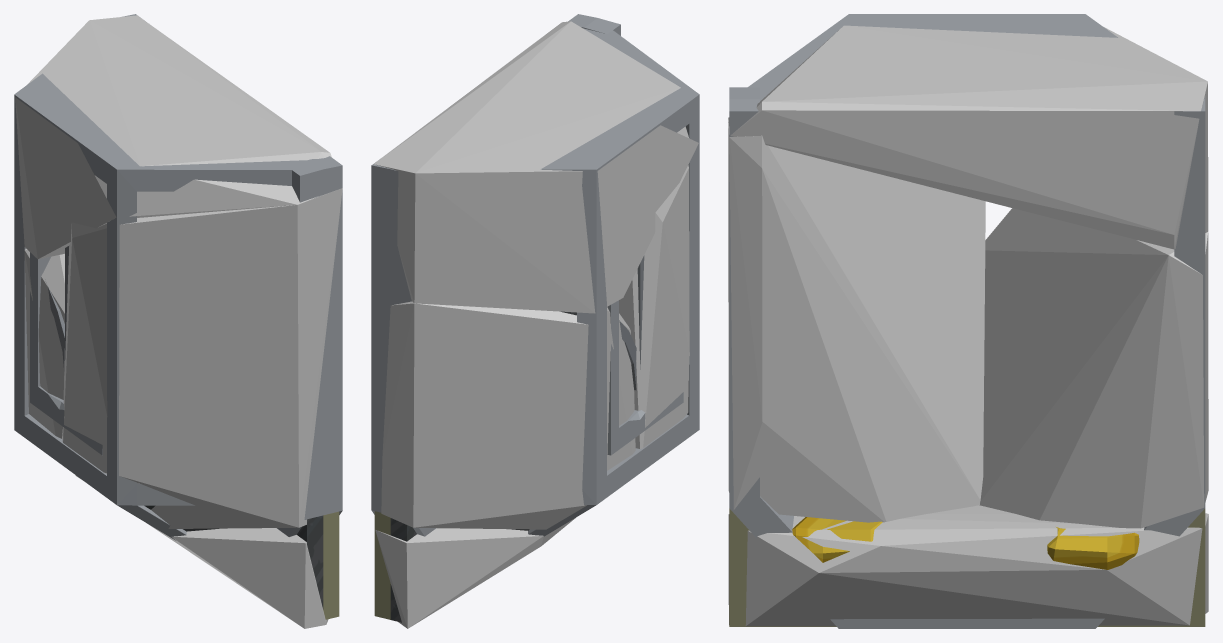
The model's file is SM_Bld_Window_Box_02.fbx.
The picture shows the model from 3 angles, left to right: view 1: azimuth 30°, elevation 25°; view 2: azimuth 150°, elevation 25°; view 3: azimuth 270°, elevation 25°; orthographic projection. The views are drawn at different scales.
Parts seen in each view (by area): view 1: SM_Bld_Window_Box_02_ConvexHulls, SM_Bld_Window_Box_02; view 2: SM_Bld_Window_Box_02_ConvexHulls, SM_Bld_Window_Box_02; view 3: SM_Bld_Window_Box_02_ConvexHulls, SM_Bld_Window_Box_02.
Part boxes in pixels (<box>): SM_Bld_Window_Box_02_ConvexHulls: <box>15,15,342,628</box>; SM_Bld_Window_Box_02: <box>14,14,342,619</box>; SM_Bld_Window_Box_02_ConvexHulls: <box>374,21,698,628</box>; SM_Bld_Window_Box_02: <box>371,14,699,622</box>; SM_Bld_Window_Box_02_ConvexHulls: <box>728,25,1208,626</box>; SM_Bld_Window_Box_02: <box>729,14,1205,628</box>.
Size of the model in its own units: 139 by 252 by 307.
Materials: 4 (3 with a texture image).
